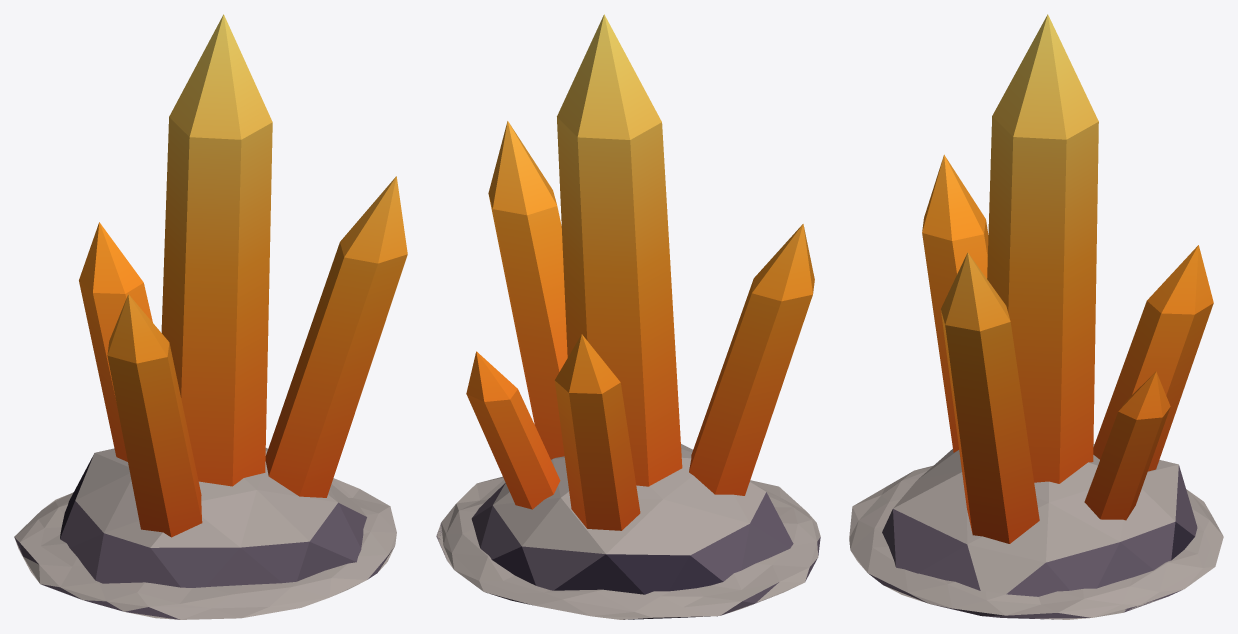
Rendered from FireCrystal.fbx.
3 views of the same model, side by side, from view 1: azimuth 30°, elevation 25°; view 2: azimuth 150°, elevation 25°; view 3: azimuth 270°, elevation 25° (orthographic). The views are drawn at different scales.
Parts seen in each view (by area): view 1: FireCrystal; view 2: FireCrystal; view 3: FireCrystal.
Boxes of the visible parts, bbox=[...] form: FireCrystal: bbox=[14, 14, 407, 619]; FireCrystal: bbox=[436, 14, 820, 619]; FireCrystal: bbox=[849, 14, 1223, 619].
Bounding box in the file's own units: 1.7 × 2.5 × 1.59.
Materials: 2 (2 with a texture image).
